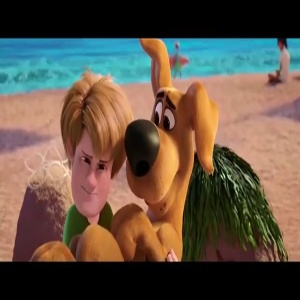Scooby: (129, 36, 217, 219)
Shagy: (62, 74, 123, 217)
